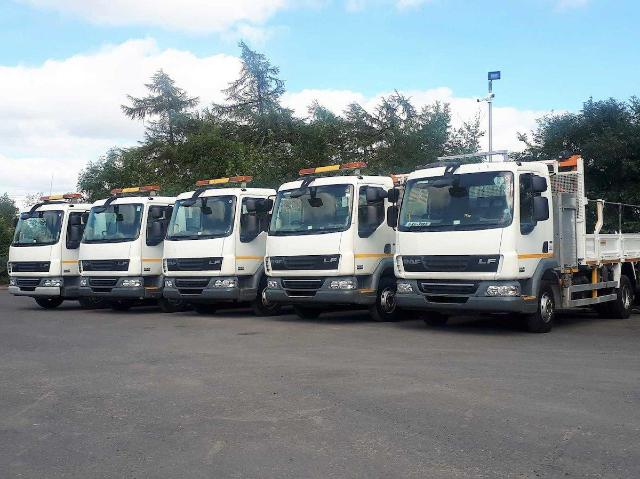truck: (388, 155, 640, 329), (265, 173, 401, 318), (162, 180, 265, 315), (81, 190, 165, 310), (6, 197, 83, 300)
